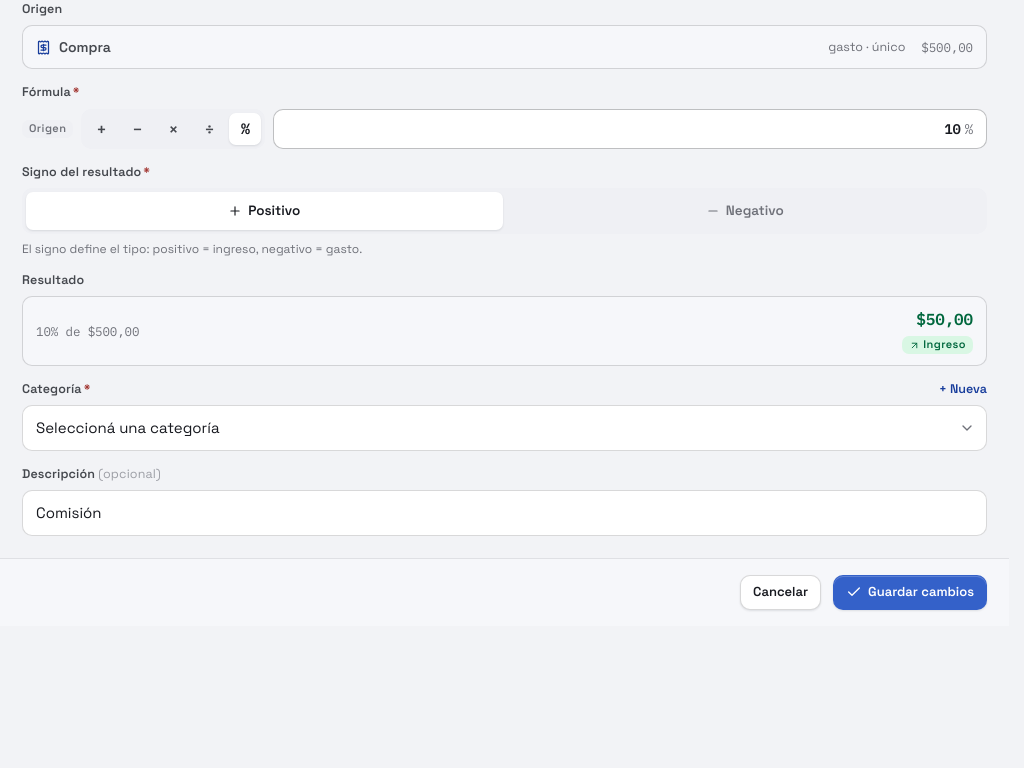
Test: Toast Deshacer — calculado de único (id de fila estable, sin split) › editar y después borrar el mismo calculado deja UN solo toast
Step 1. Click the button "Guardar cambios" → [910, 592], box top-left (833, 575), bottom-right (987, 610)
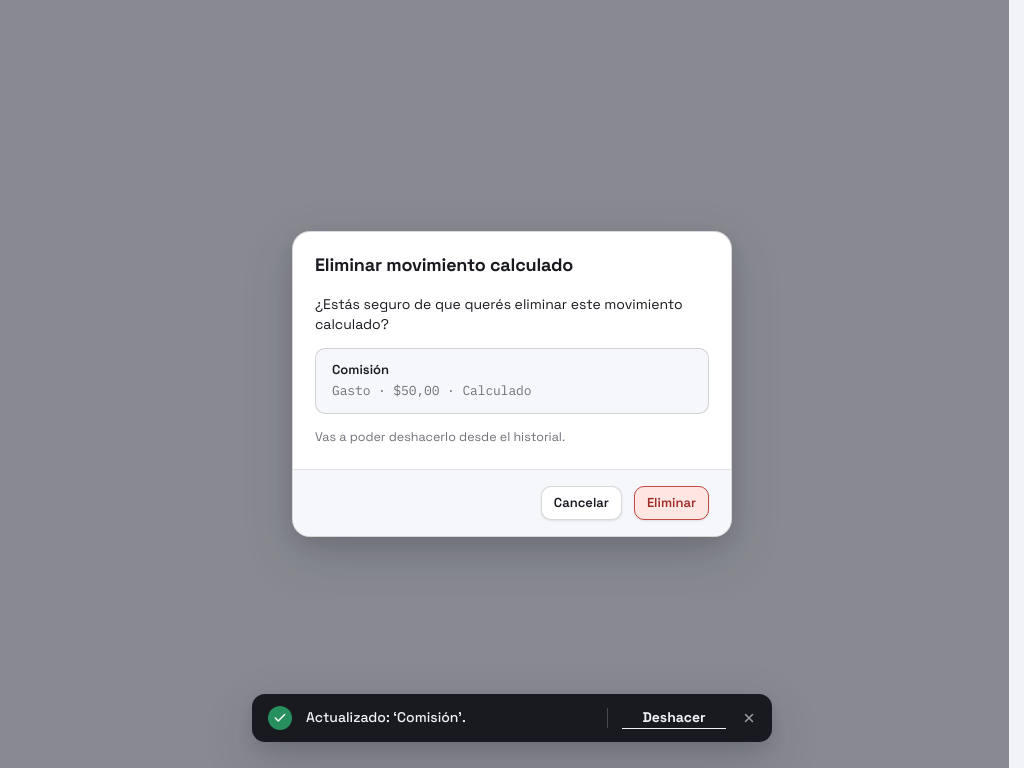
Expected: the text "Actualizado: ‘Comisión’." is shown, top-left (306, 708), bottom-right (466, 726)
Expected: the number of messages is 1, top-left (252, 694), bottom-right (772, 742)
Expected: the button "Eliminar" is shown
Step 2. Click the button "Eliminar" → [671, 503], box top-left (634, 486), bottom-right (709, 520)
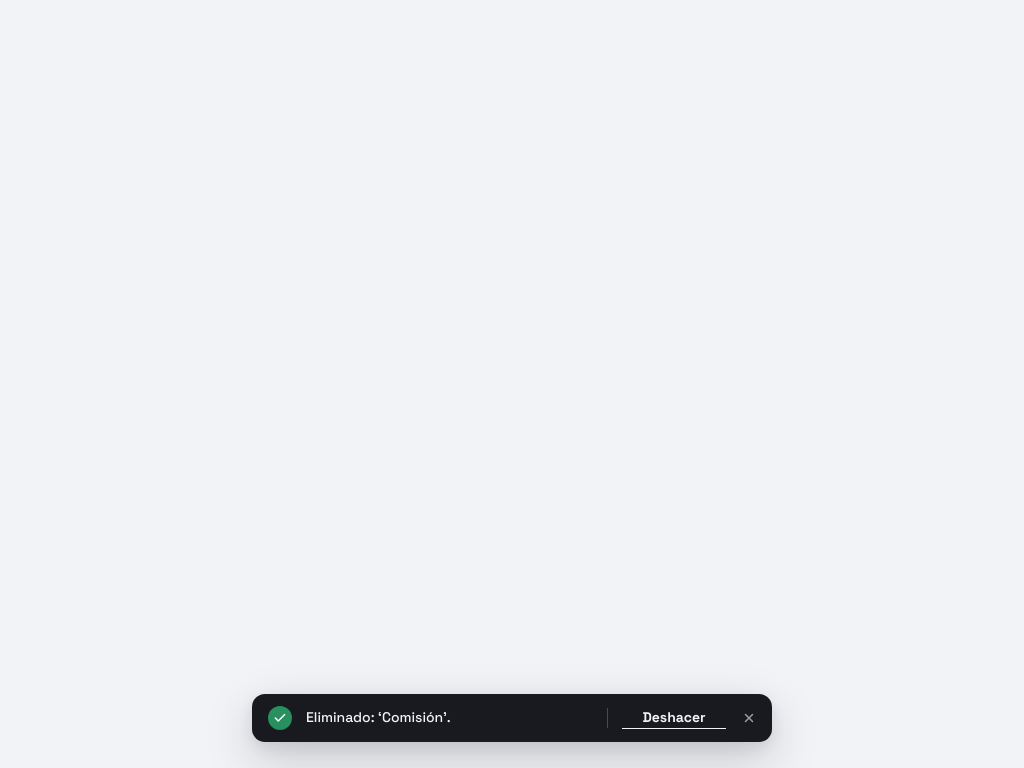
Expected: the number of messages is 1, top-left (252, 694), bottom-right (772, 742)
Expected: the text "Eliminado: ‘Comisión’." is shown, top-left (306, 708), bottom-right (451, 726)
Expected: the text "Actualizado:" is gone
